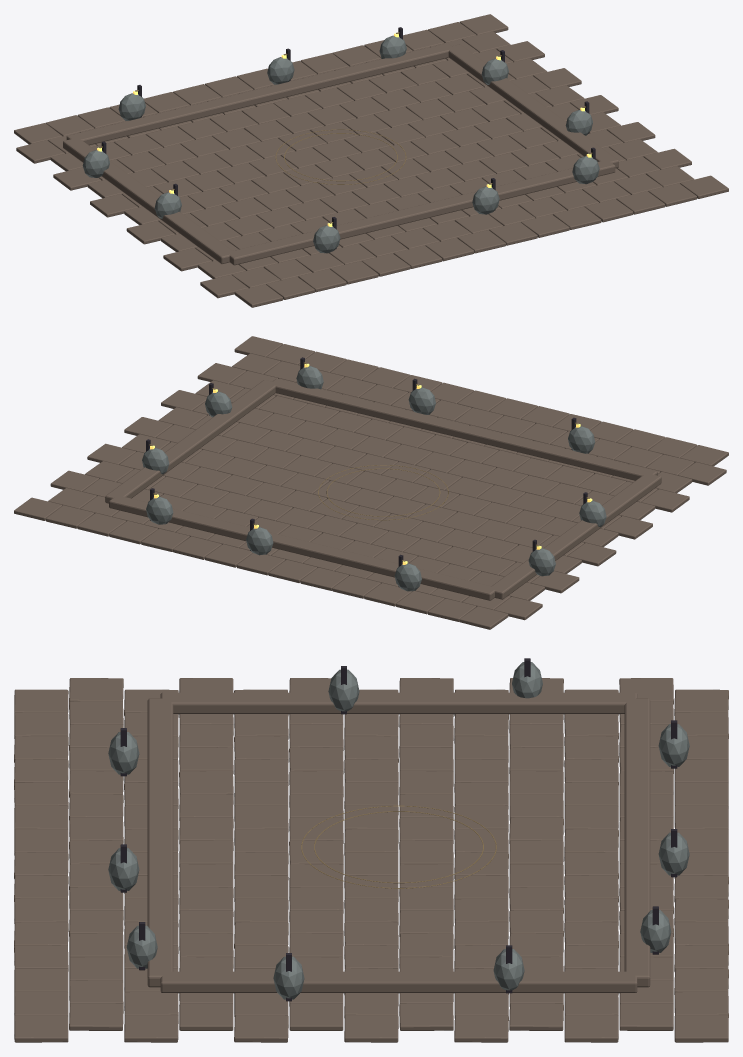
File: forgotten_mine_raid.glb
The picture shows the model from 3 angles, top to bottom: view 1: azimuth 30°, elevation 25°; view 2: azimuth 150°, elevation 25°; view 3: azimuth 270°, elevation 25°; orthographic projection. The views are drawn at different scales.
Parts seen in each view (by area): view 1: forgotten_mine_raid Geometry; view 2: forgotten_mine_raid Geometry; view 3: forgotten_mine_raid Geometry.
Boxes of the visible parts, x1,y1,x2,y2 form: forgotten_mine_raid Geometry: [14, 14, 728, 307]; forgotten_mine_raid Geometry: [14, 336, 728, 629]; forgotten_mine_raid Geometry: [14, 658, 728, 1042].
Bounding box in the file's own units: 46.48 × 3.14 × 38.98.
